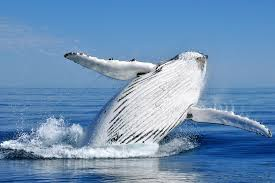humpback: (84, 50, 210, 146)
